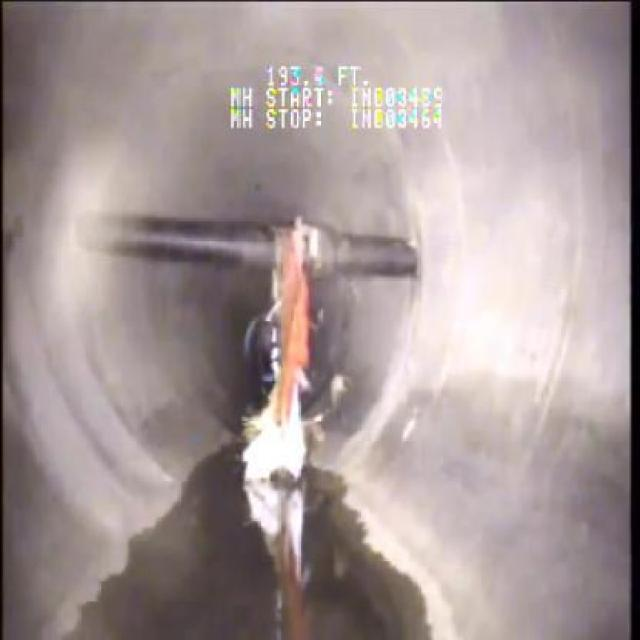Utility intrusion: (74, 208, 423, 286)
